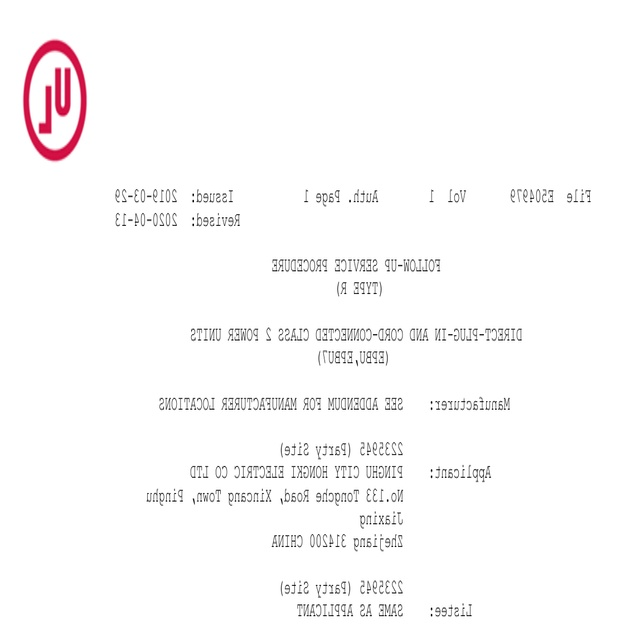ul: (22, 40, 88, 161)
